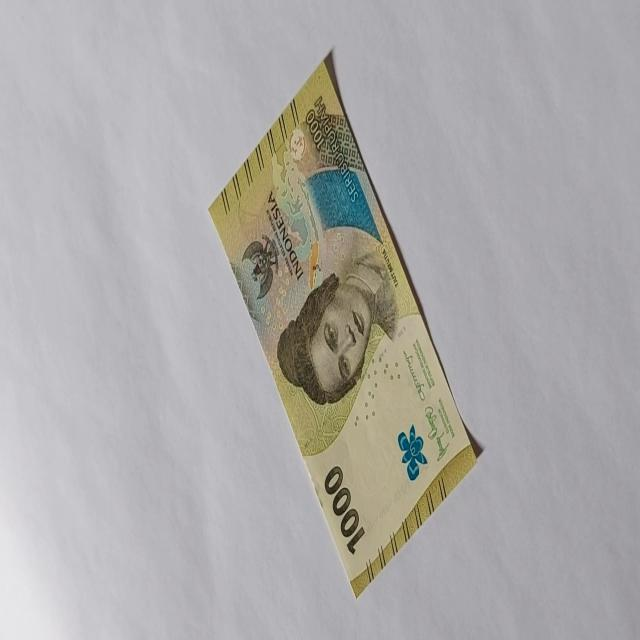seribu rupiah kertas: (206, 51, 479, 600)
